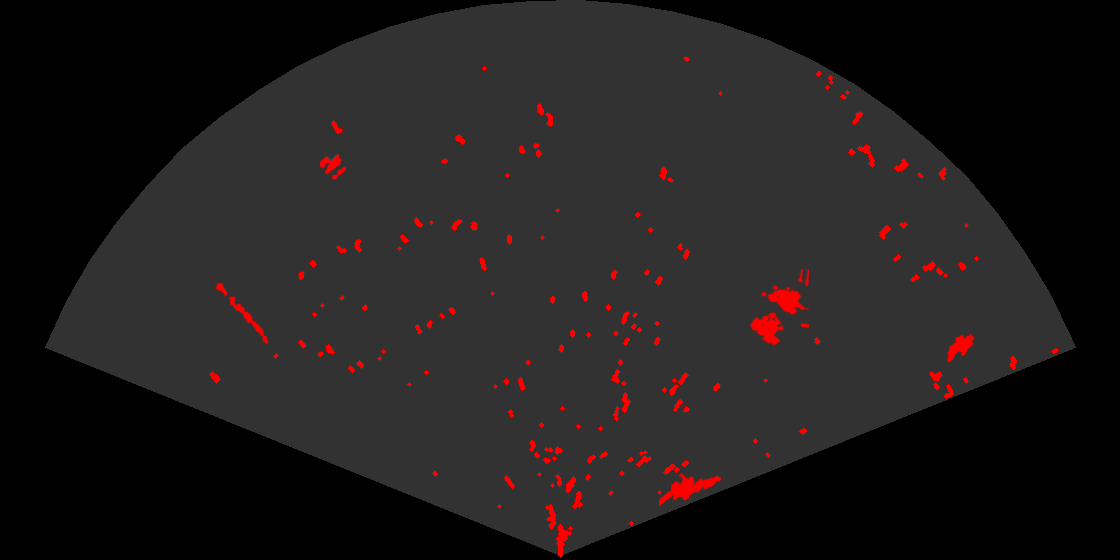AUV: (945, 332, 976, 364)
ball: (318, 153, 348, 181)
cage: (748, 269, 809, 348)
chain: (209, 272, 270, 346)
frogman: (659, 473, 723, 508)
